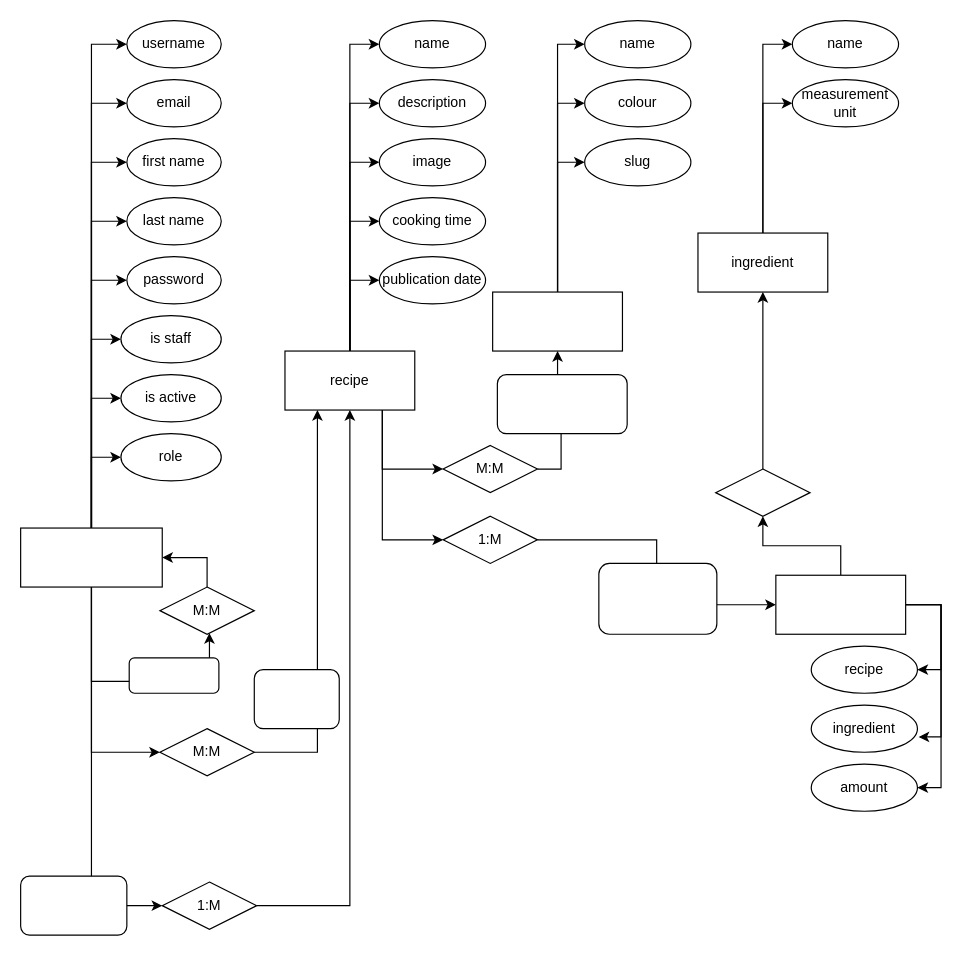
This 971x956 diagram has some shape labels left out. The shapes that lost their labels are listed below. From the top down, each one's centre as x and y in pixels, then its label:
At (556,321): "tag".
At (561,403): "Each recipe can be signed with some tag".
At (762,492): "M:1".
At (90,557): "user".
At (657,598): "Each recipe contains a certain amount of certain ingredients.".
At (840,604): "RecipeIngredient".
At (173,675): "User follows user".
At (296,698): "User adds recipe to shopping cart".
At (73,905): "Author of each recipe is instance of user".
